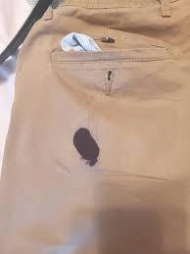ink: (71, 126, 100, 164)
